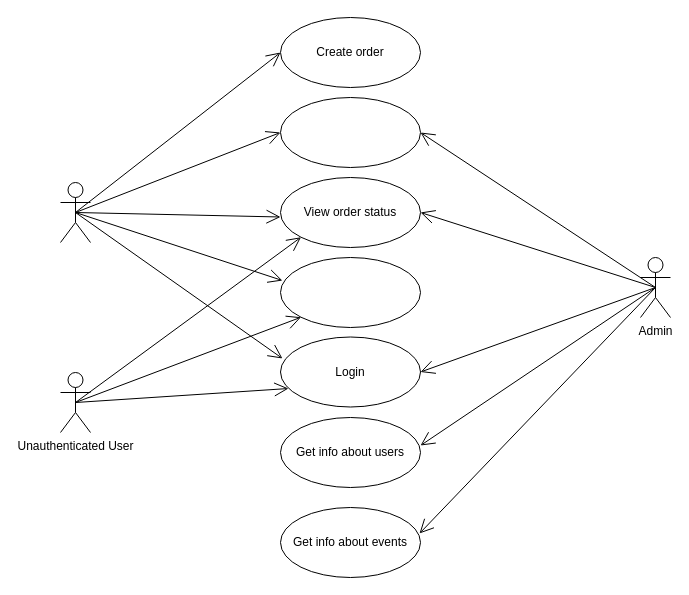
The diagram is 689 pixels wide and 595 high, and some of its shapes have lost their labels. Each missing label, with the box of its shape:
Authenticated User: (60, 182, 90, 242)
Execute order: (280, 96, 420, 168)
Register: (280, 256, 420, 328)
